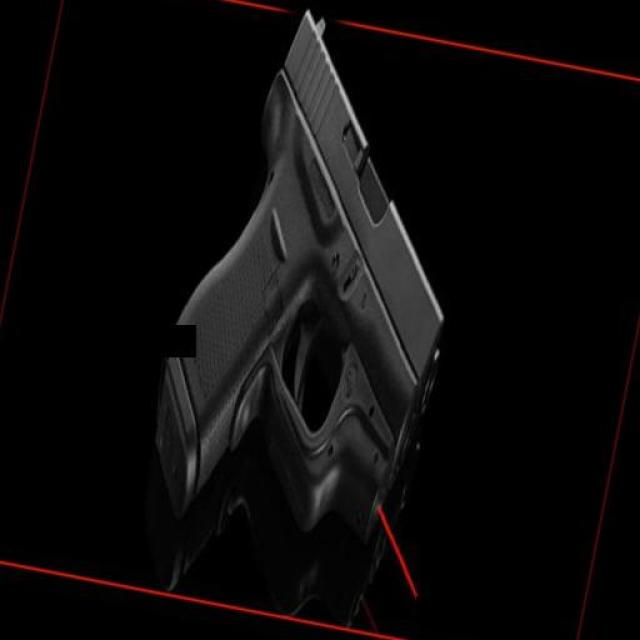gun: (128, 10, 498, 569)
